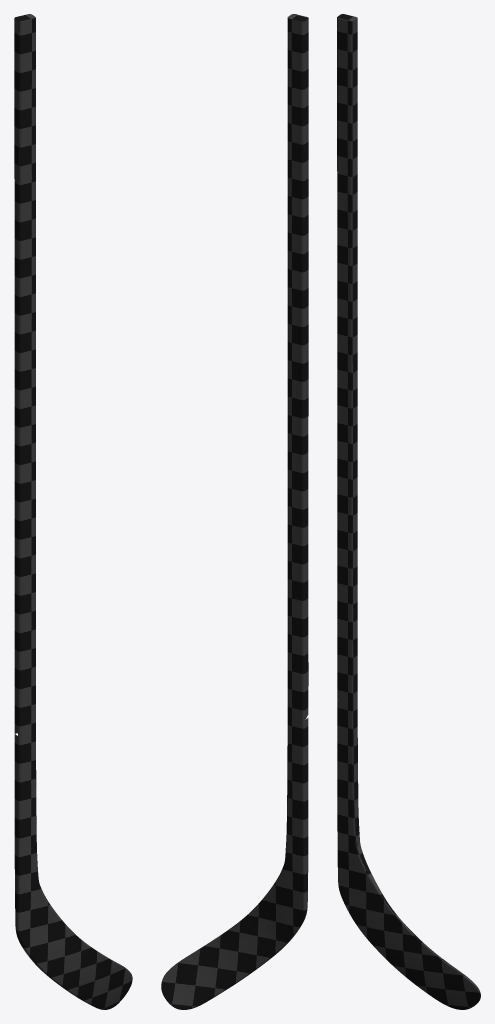
The picture shows the model from 3 angles, left to right: view 1: azimuth 30°, elevation 25°; view 2: azimuth 150°, elevation 25°; view 3: azimuth 330°, elevation 25°; orthographic projection. The views are drawn at different scales.
Parts seen in each view (by area): view 1: geometry_0; view 2: geometry_0; view 3: geometry_0.
Part boxes in pixels (x1,y1,x2,y2): geometry_0: [14, 14, 132, 1009]; geometry_0: [161, 14, 308, 1009]; geometry_0: [337, 14, 480, 1009].
Size of the model in its own units: 222 by 1650 by 63.71.
Materials: 1 (1 with a texture image).
